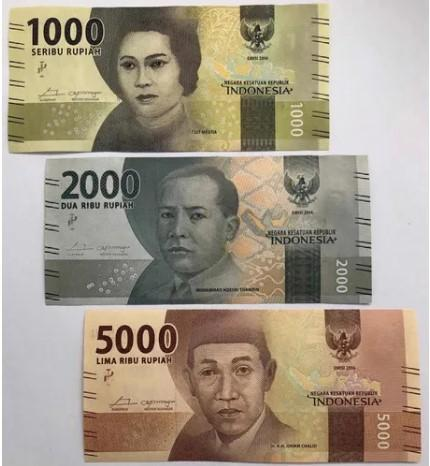1000IndonesianRupiah: (5, 1, 329, 151)
